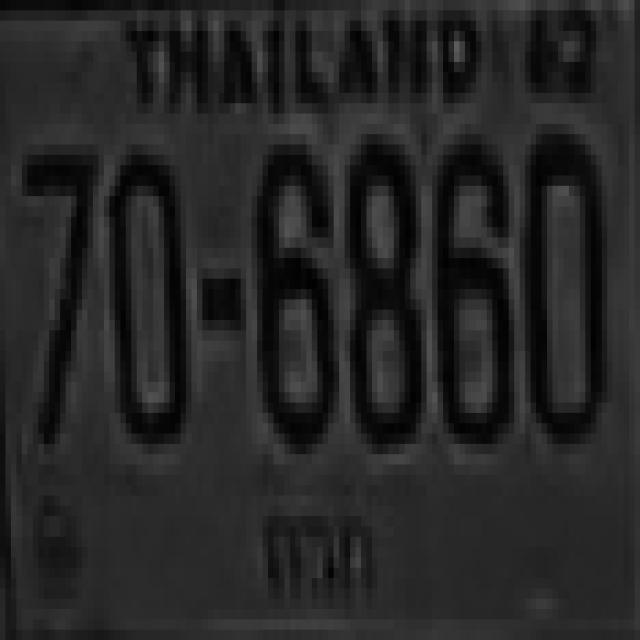0: (520, 124, 602, 433), (107, 144, 183, 433)
6: (252, 134, 334, 444), (432, 134, 509, 434)
7: (22, 144, 93, 433)
8: (345, 129, 421, 439)
Tak: (245, 504, 378, 620)
